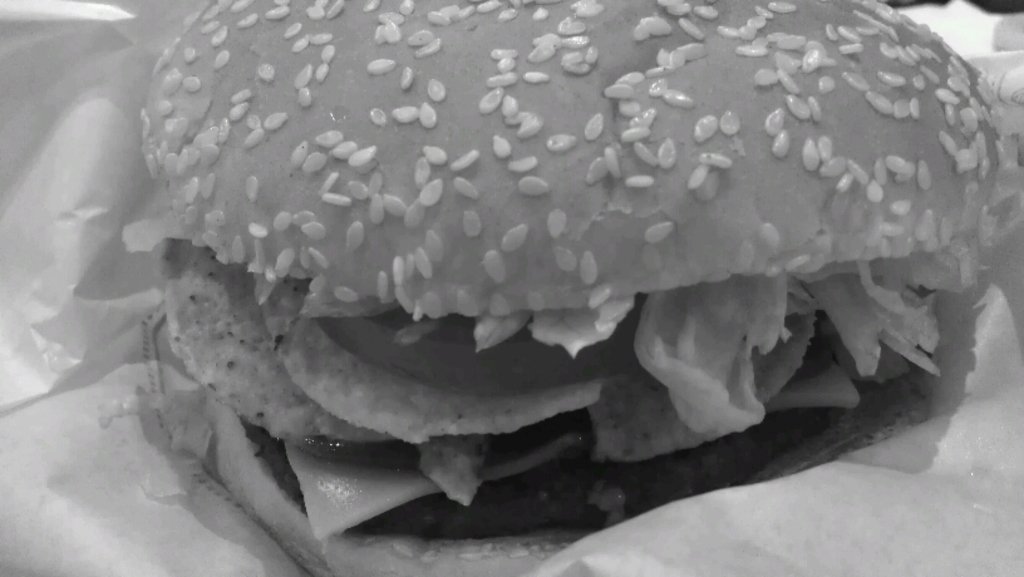Hamburger: (117, 0, 1005, 575)
